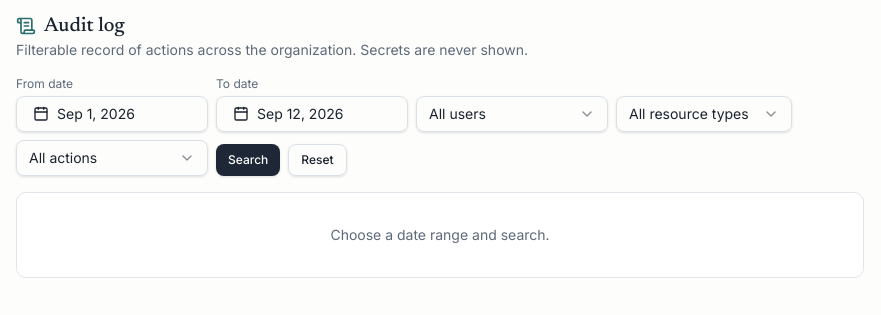
Test case: AdminAudit › shows an alert for invalid cursor errors instead of a silent empty list
Click the button "Search" at [248, 160], box [216,144,280,176]
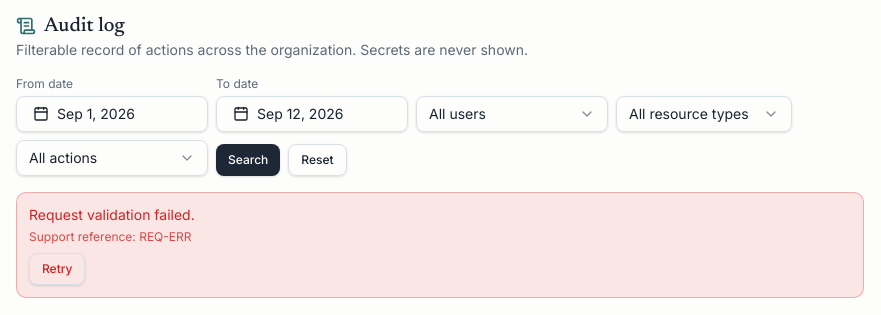
Expected: the text "Request validation failed." is shown, [29,206,195,223]
Expected: the text "Choose a date range and search." is gone
